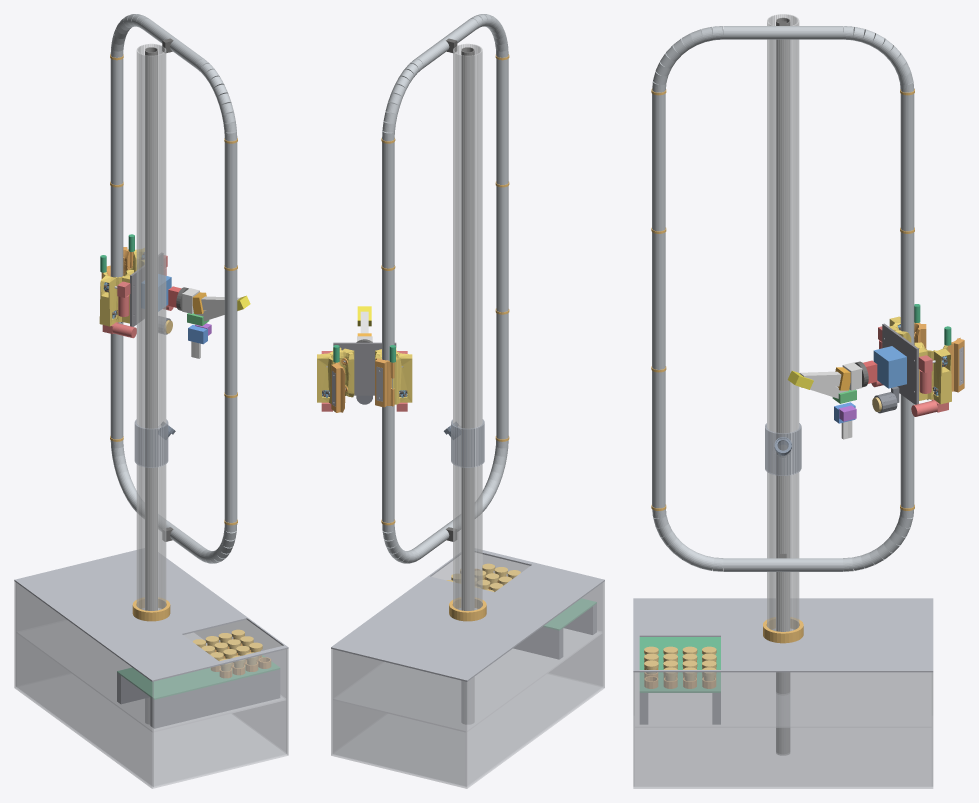
Rendered from transplant-seedling-step2-drive-v12.glb.
The picture shows the model from 3 angles, left to right: view 1: azimuth 30°, elevation 25°; view 2: azimuth 150°, elevation 25°; view 3: azimuth 270°, elevation 25°; orthographic projection. The views are drawn at different scales.
Size of the model in its own units: 0.507 by 1.9 by 0.7736.
